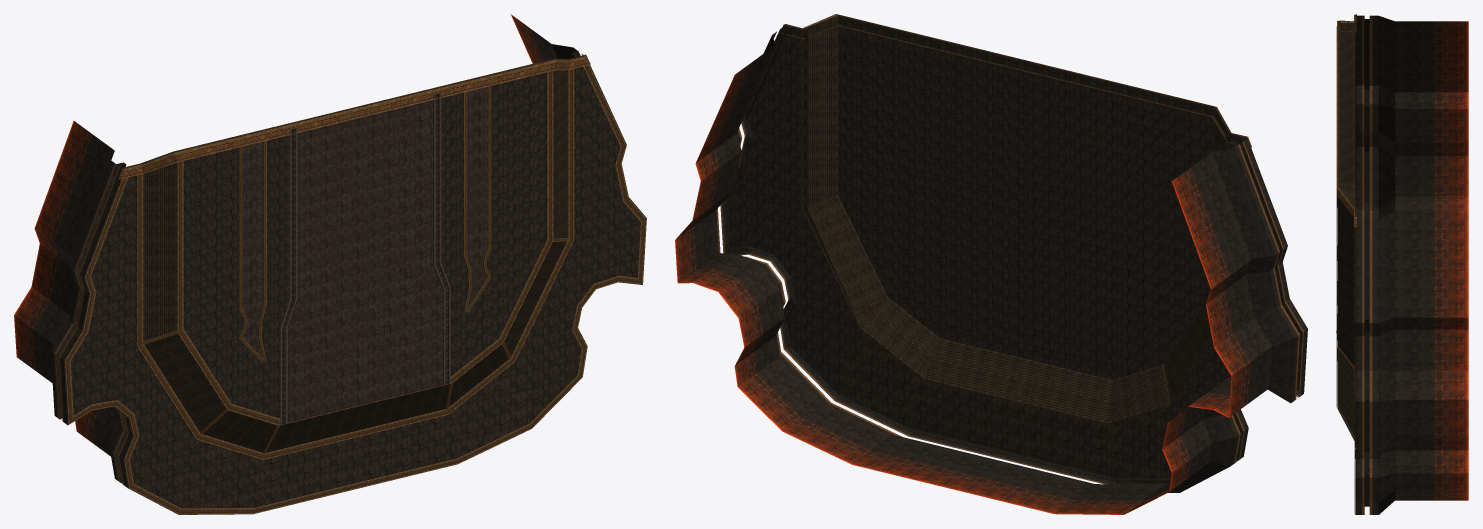
Rendered from juqing_fuben_292_jizuo_01.obj.
The picture shows the model from 3 angles, left to right: view 1: azimuth 30°, elevation 25°; view 2: azimuth 150°, elevation 25°; view 3: azimuth 270°, elevation 25°; orthographic projection. The views are drawn at different scales.
Visible parts, largest first — view 1: Object22; view 2: Object22; view 3: Object22.
Part boxes in pixels (x1,y1,x2,y2): Object22: (14,14,646,514); Object22: (675,14,1307,514); Object22: (1336,14,1468,514).
Bounding box in the file's own units: 7337 × 4695 × 1607.
12 materials, 12 textured.
